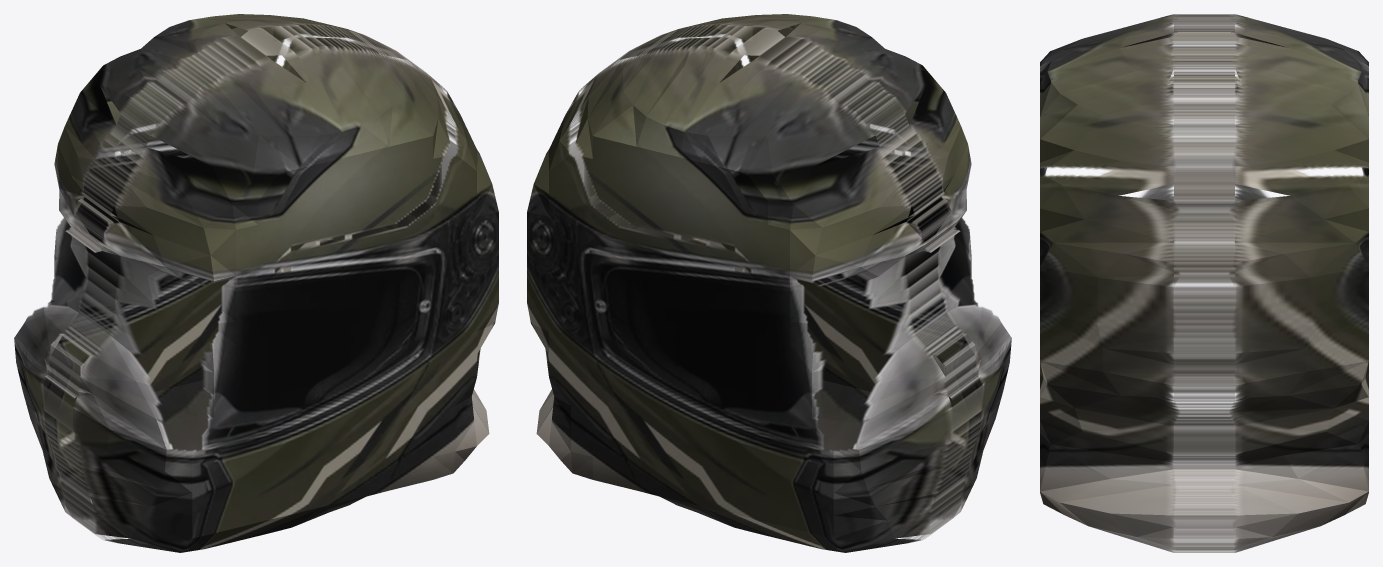
The model's file is sidi-apex-full-face-helmet-049.glb.
3 renders of one model, left to right at view 1: azimuth 30°, elevation 25°; view 2: azimuth 150°, elevation 25°; view 3: azimuth 270°, elevation 25°, orthographic. The views are drawn at different scales.
Visible parts, largest first — view 1: world; view 2: world; view 3: world.
Boxes of the visible parts, x1=… form: world: x1=14, y1=14, x2=498, y2=552; world: x1=527, y1=14, x2=1011, y2=552; world: x1=1040, y1=14, x2=1368, y2=552.
Size of the model in its own units: 0.9223 by 1 by 0.64.
1 material, 1 textured.
